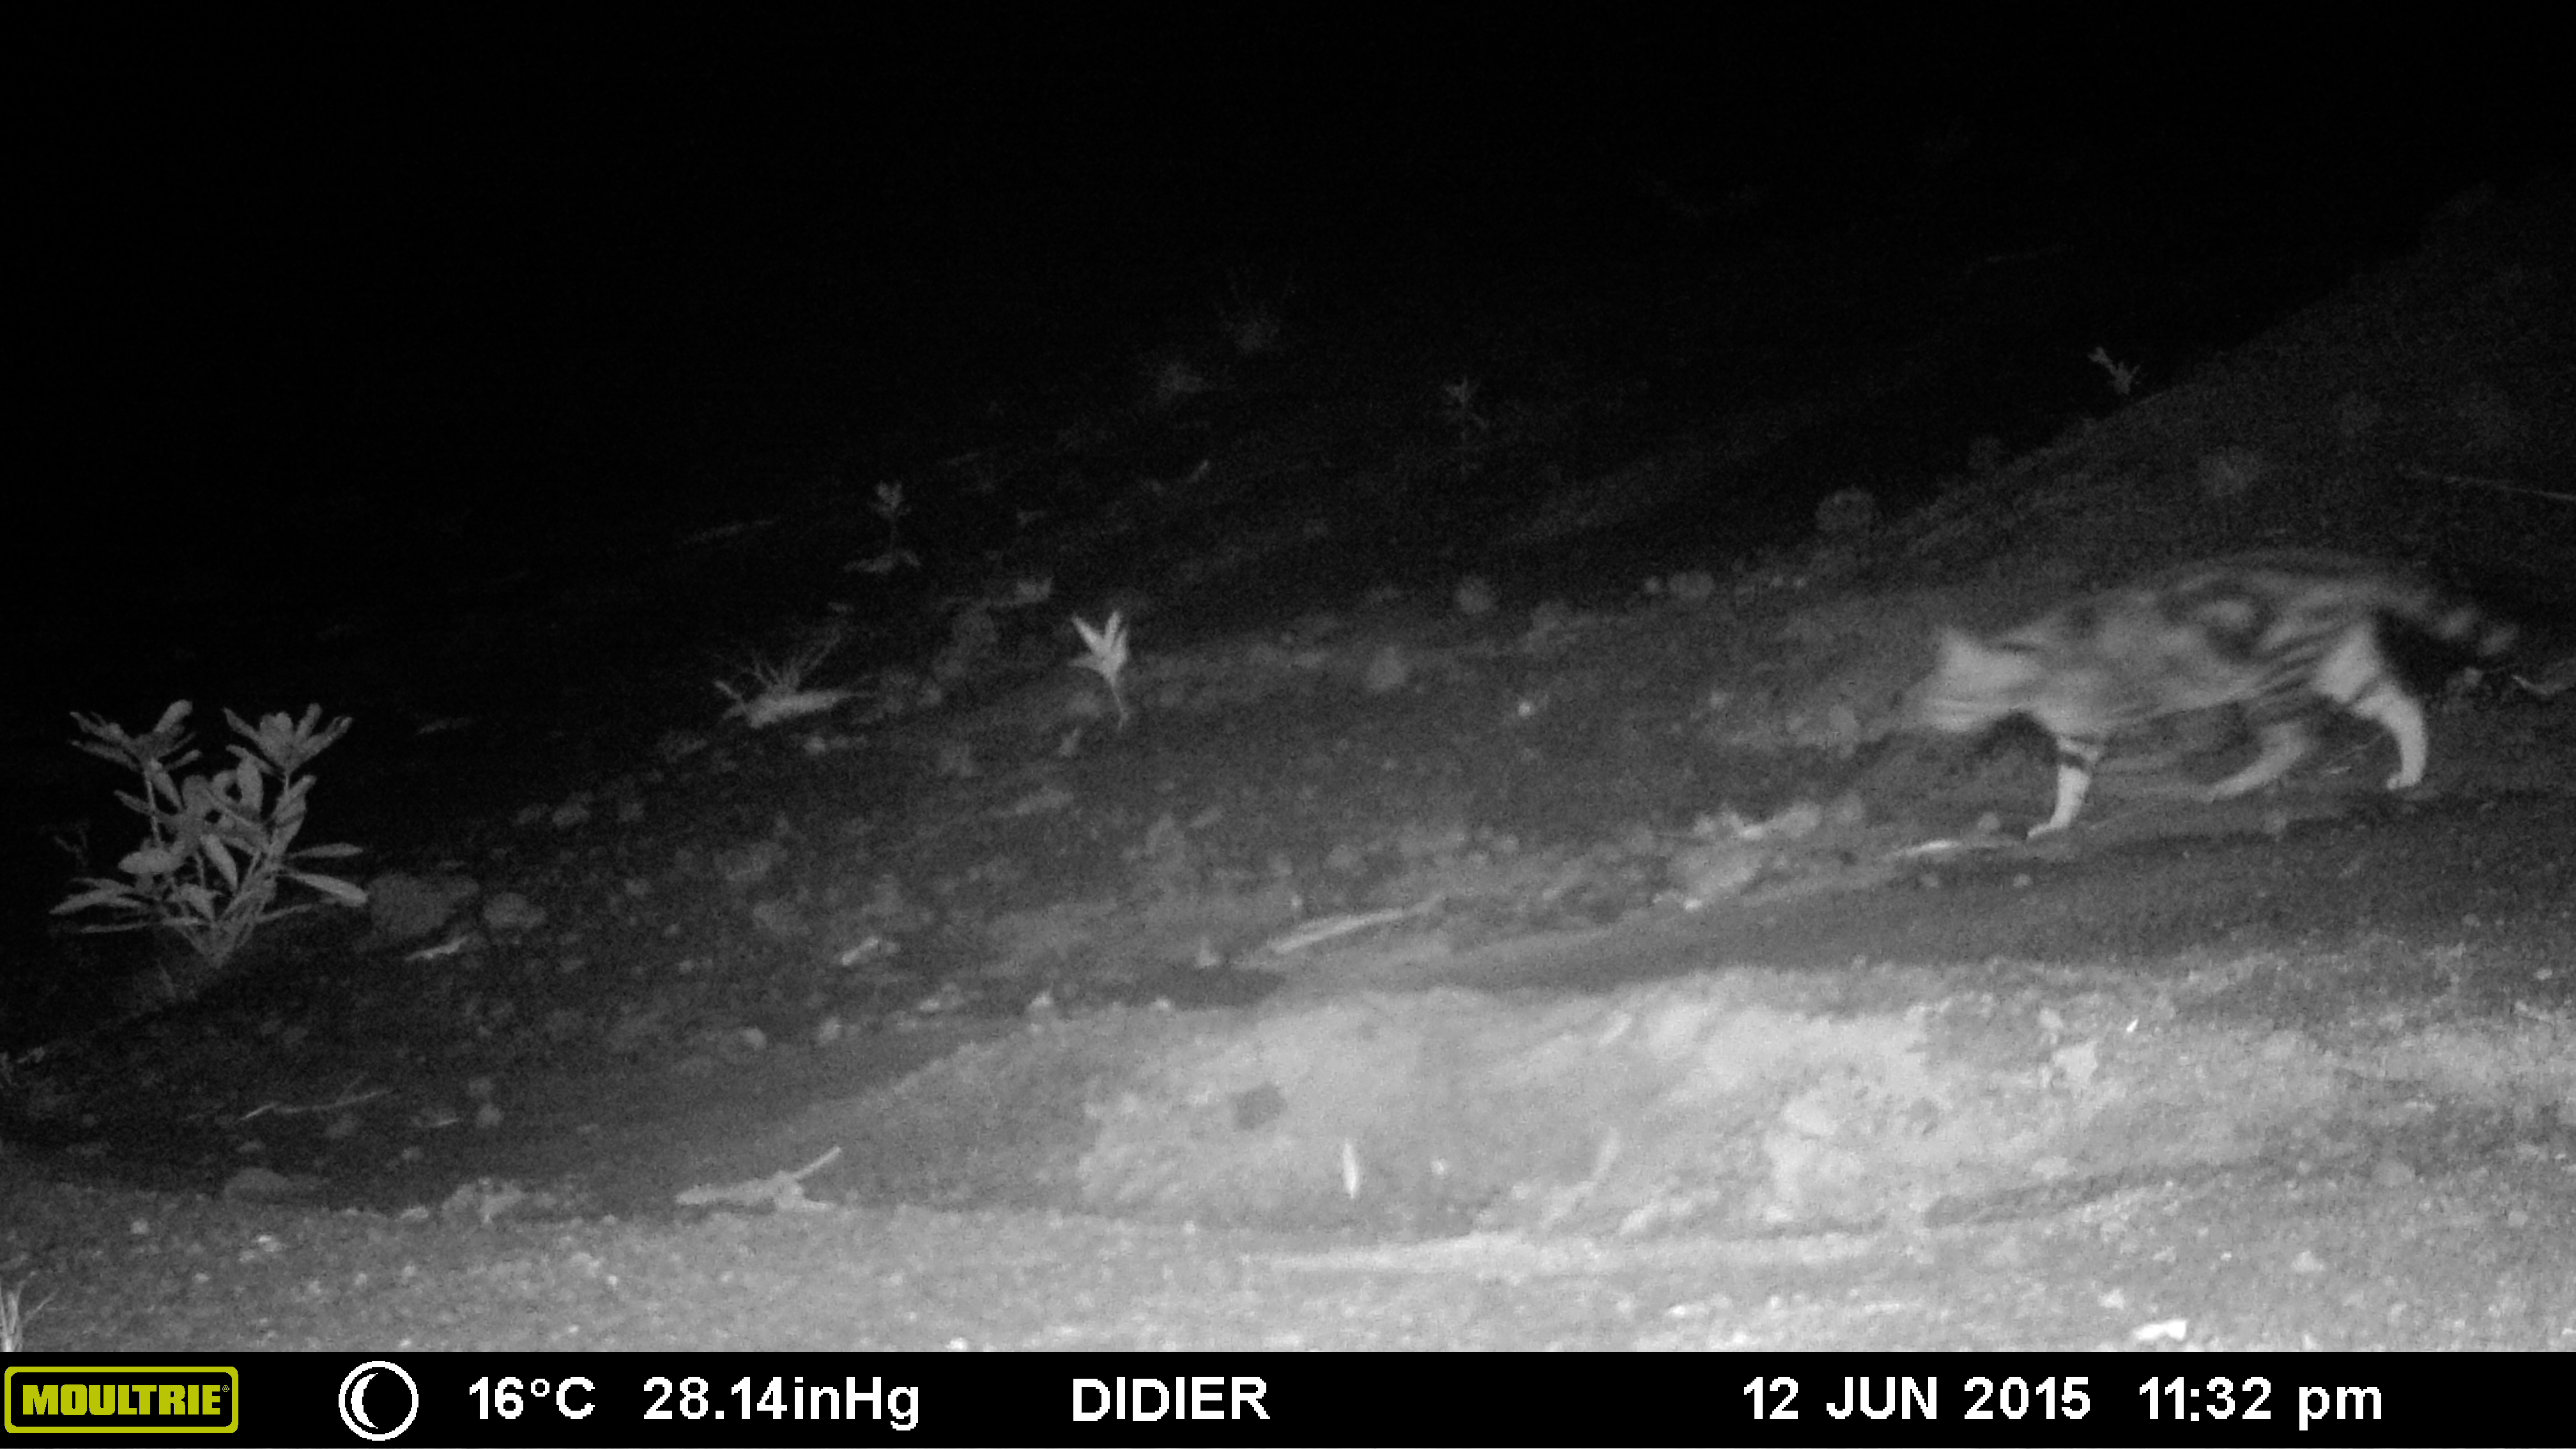cat: (1909, 533, 2537, 858)
